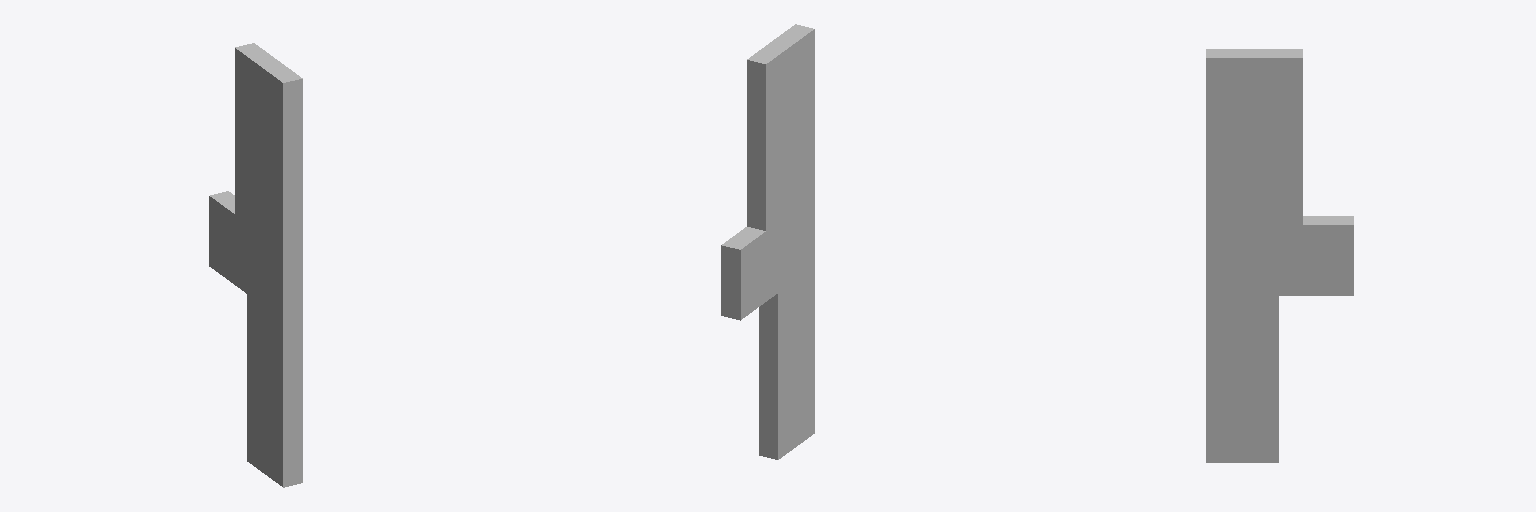
The model's file is slide door.obj.
3 renders of one model, left to right at view 1: azimuth 30°, elevation 25°; view 2: azimuth 150°, elevation 25°; view 3: azimuth 270°, elevation 25°, orthographic.
Visible parts, largest first — view 1: Cube.015_Cube.001; view 2: Cube.015_Cube.001; view 3: Cube.015_Cube.001.
Part boxes in pixels (x1,y1,x2,y2): Cube.015_Cube.001: (209, 43, 302, 487); Cube.015_Cube.001: (721, 24, 814, 459); Cube.015_Cube.001: (1206, 49, 1353, 462).
Bounding box in the file's own units: 0.2 × 4 × 1.33.